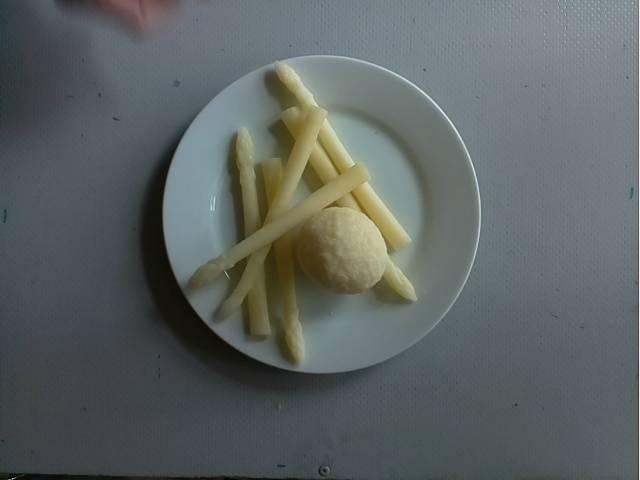Asparagus + dumpling: (188, 70, 419, 363)
